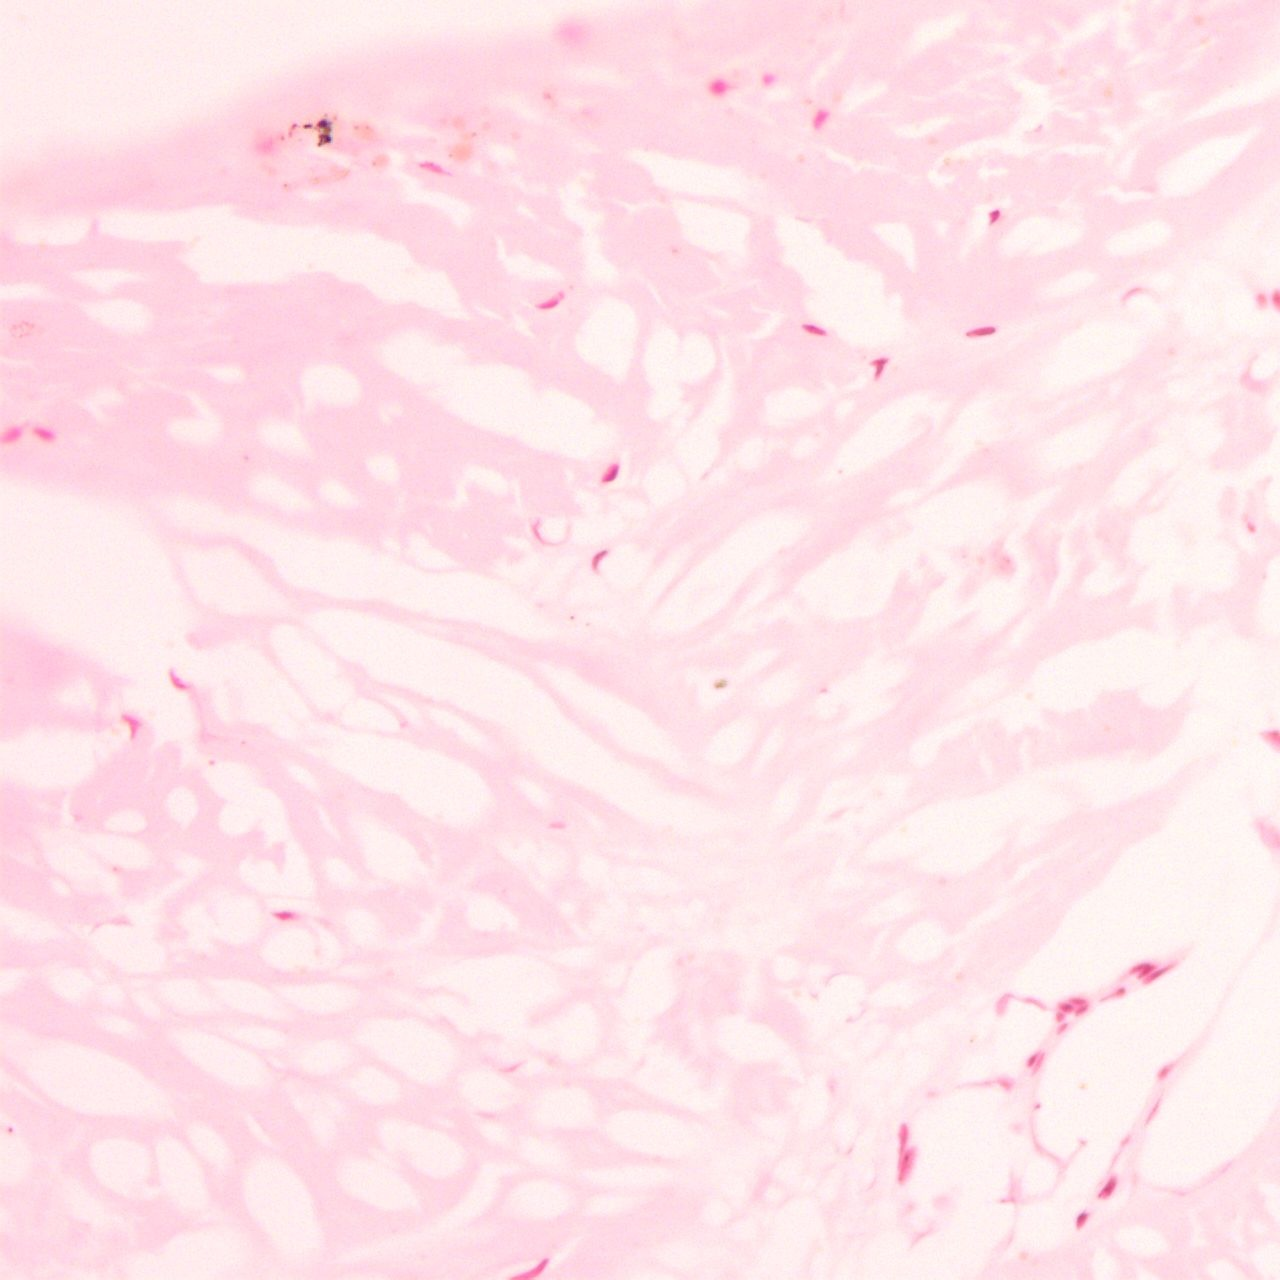dust: (315, 132, 334, 147), (316, 118, 332, 132), (712, 678, 729, 689), (290, 121, 299, 131), (302, 123, 312, 129), (207, 760, 216, 765), (287, 131, 293, 138), (546, 91, 551, 100), (280, 135, 286, 141), (470, 131, 476, 137), (333, 115, 338, 121), (365, 125, 370, 130), (8, 1126, 13, 1132), (570, 615, 574, 620), (353, 125, 359, 129), (324, 113, 327, 117), (448, 154, 452, 157), (585, 622, 590, 626)
nucleus-AC: (511, 1252, 551, 1280), (1141, 961, 1176, 987), (535, 290, 566, 316), (1092, 1173, 1121, 1203), (116, 710, 144, 740), (1095, 983, 1128, 1008), (892, 1121, 910, 1166), (896, 1145, 917, 1183), (1126, 956, 1157, 982), (418, 158, 455, 179), (866, 350, 891, 381), (808, 107, 832, 132), (586, 546, 610, 573), (30, 422, 57, 444), (165, 668, 188, 693), (600, 461, 621, 486), (799, 322, 829, 338), (964, 325, 998, 338), (1071, 1208, 1090, 1230), (1155, 1061, 1173, 1082), (985, 205, 1003, 225), (271, 910, 297, 921), (1057, 1000, 1075, 1016), (1073, 1003, 1090, 1017), (1024, 1050, 1039, 1068), (712, 79, 728, 93), (1055, 1020, 1070, 1034), (761, 72, 776, 86), (1054, 1012, 1065, 1022), (1069, 998, 1085, 1005)
